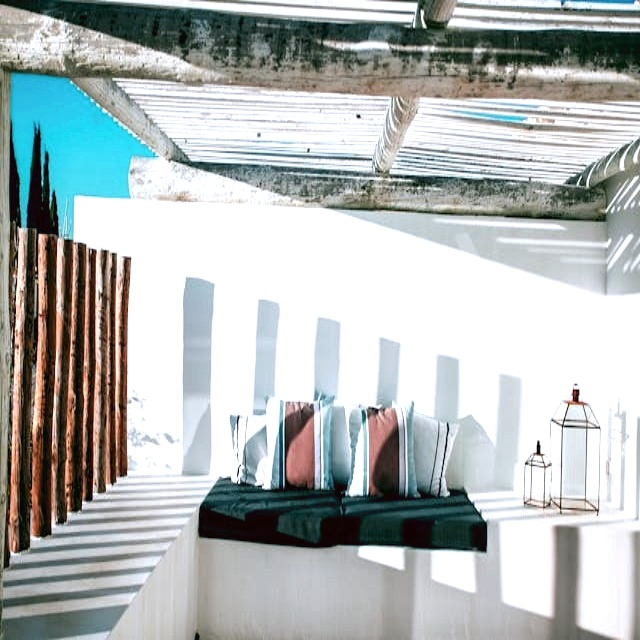foam_scum: (0, 7, 640, 640), (13, 13, 627, 627), (0, 200, 38, 440), (447, 0, 640, 32)
turbid_water: (0, 0, 640, 640)
